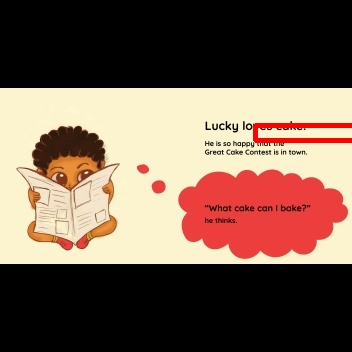latin: (203, 118, 307, 133)
